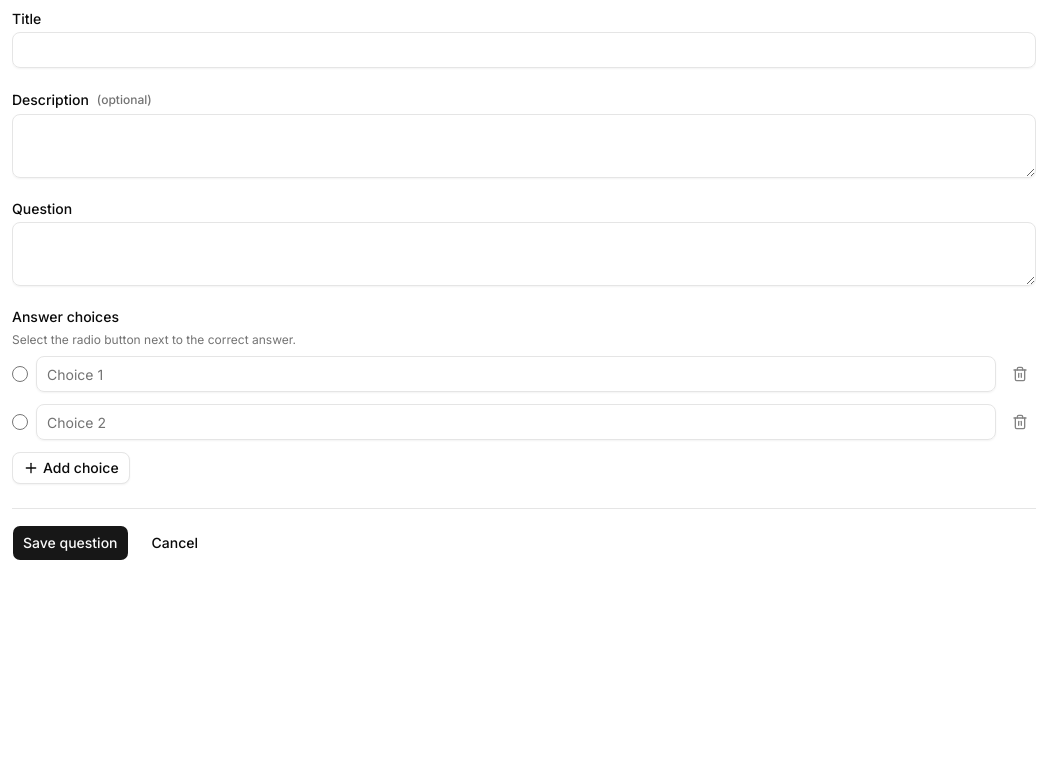
Test case: QuestionForm — AnswerChoiceList behaviour › disables the Add choice button when 6 choices already exist
Click the button "Add choice" at [71, 468], box [12,452,130,484]
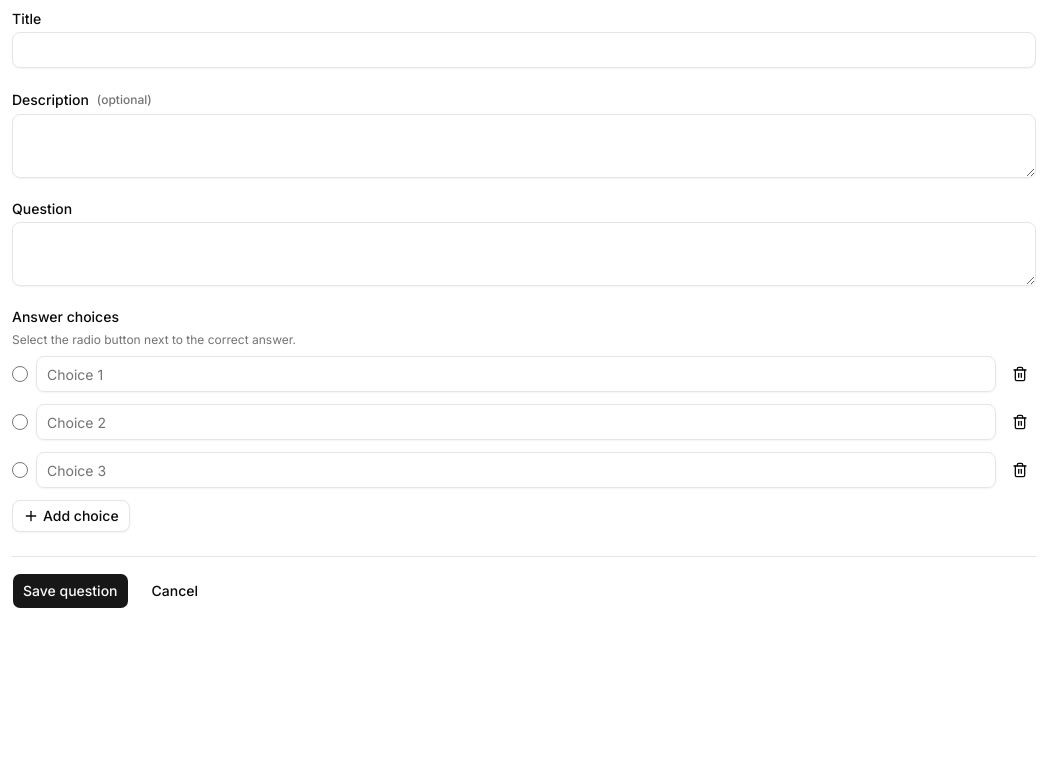
Click the button "Add choice" at [71, 516], box [12,500,130,532]
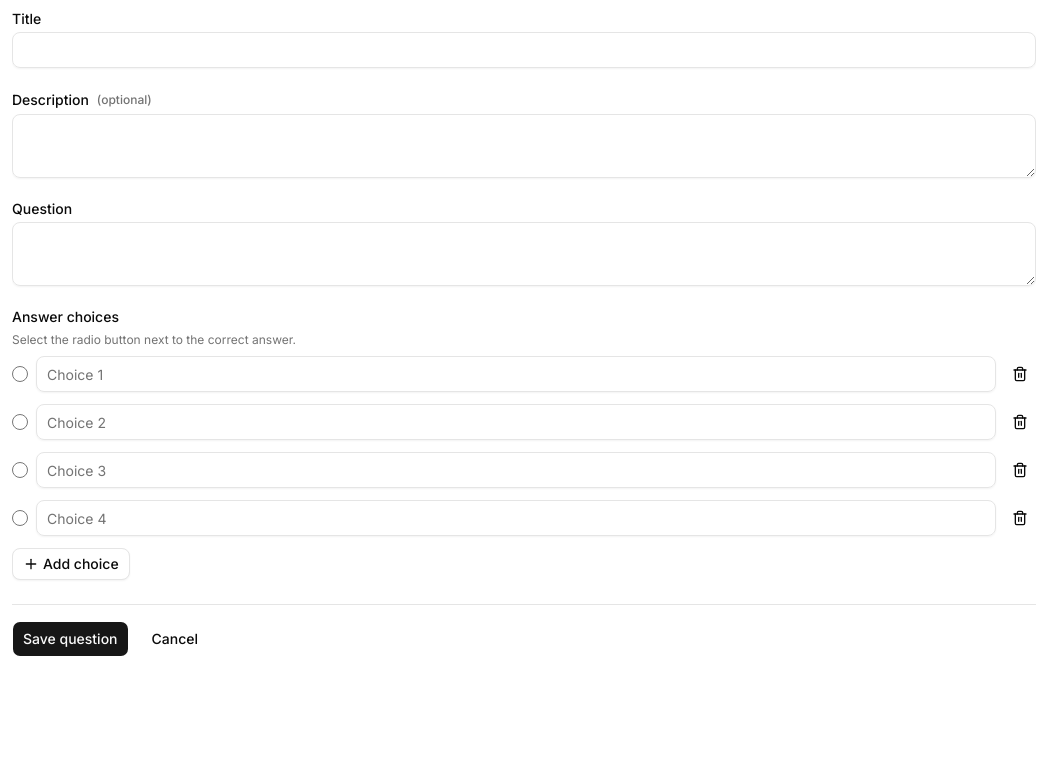
Click the button "Add choice" at [71, 564], box [12,548,130,580]
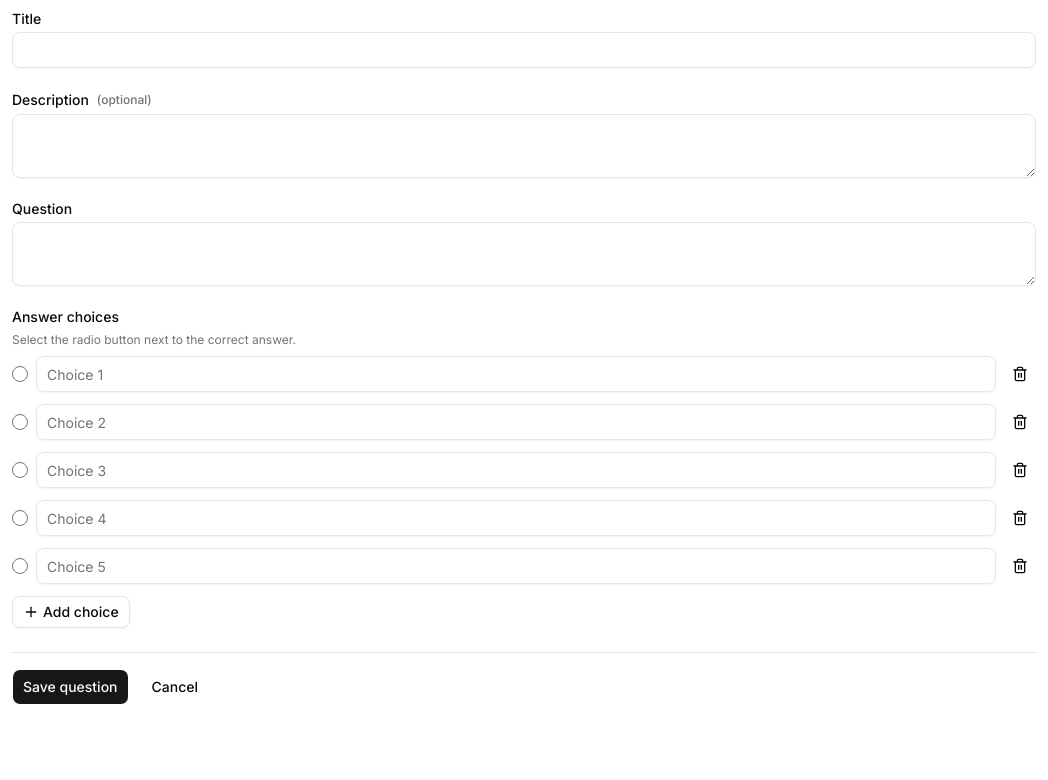
Click the button "Add choice" at [71, 612], box [12,596,130,628]
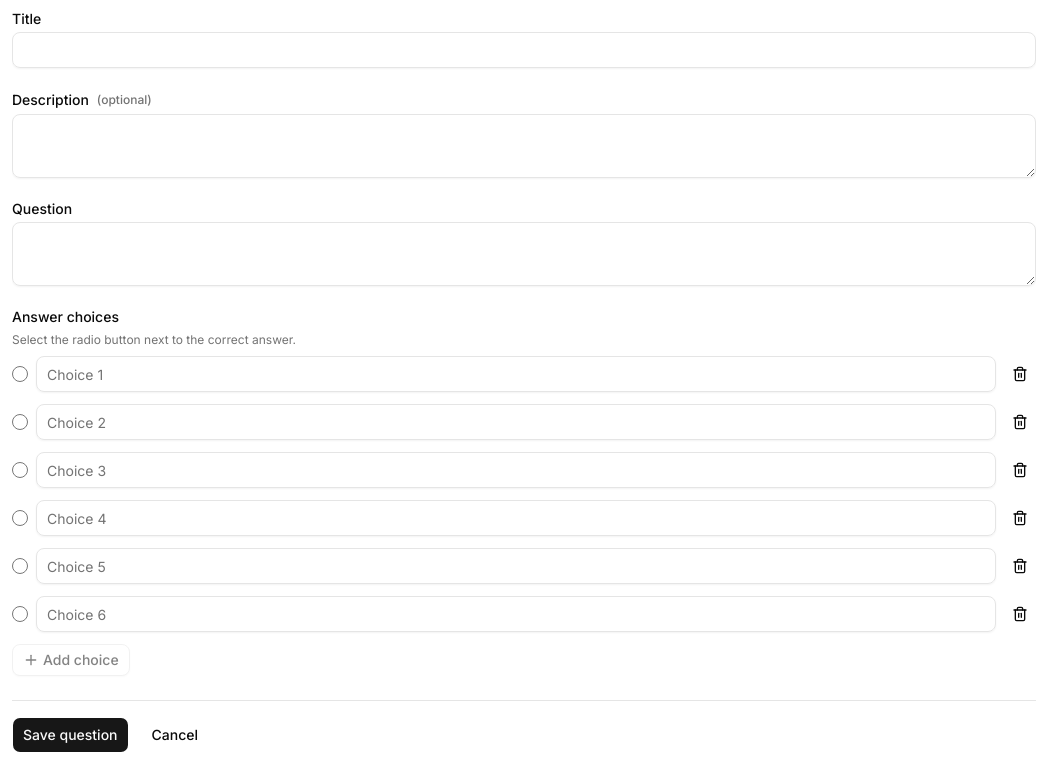
Check: the number of fields labelled "Choice 1" is 6, box [36,356,996,392]; [36,404,996,440]; [36,452,996,488]; [36,500,996,536]; [36,548,996,584]; [36,596,996,632]
Check: the button "Add choice" is disabled, box [12,644,130,676]
